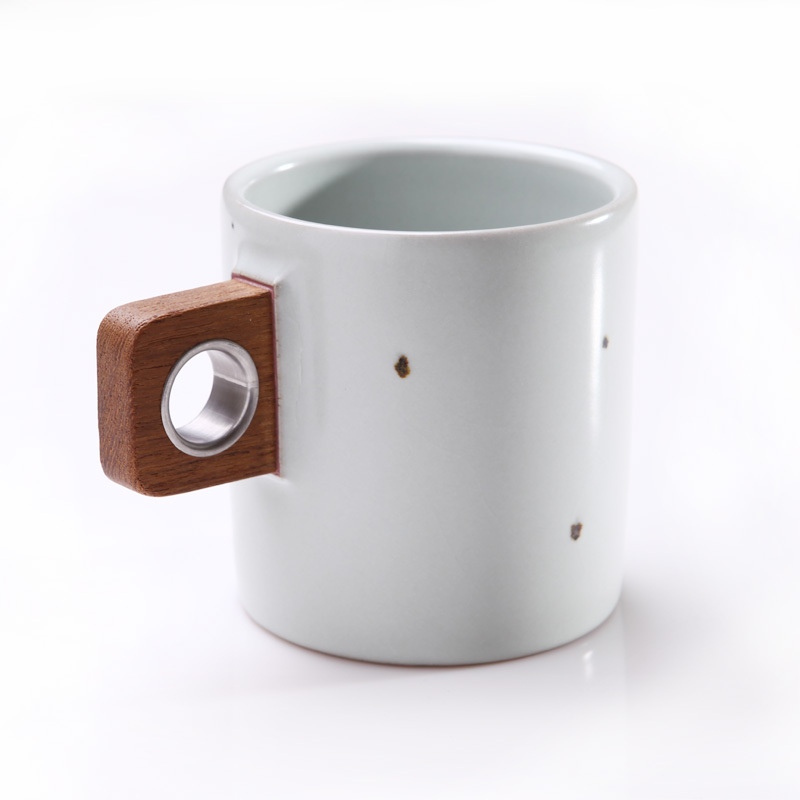cup: (91, 133, 643, 674)
